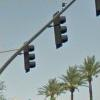traffic lights: (53, 14, 68, 49), (21, 42, 36, 73)
